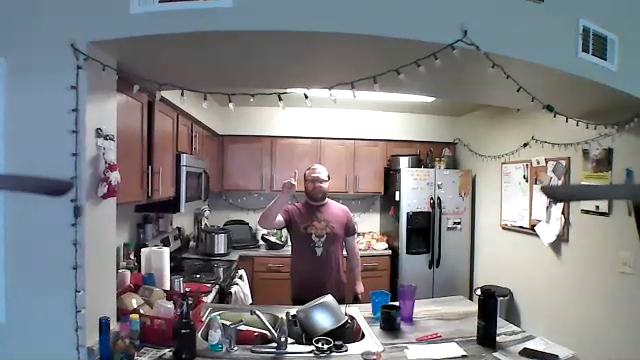up: (276, 162, 301, 199)
